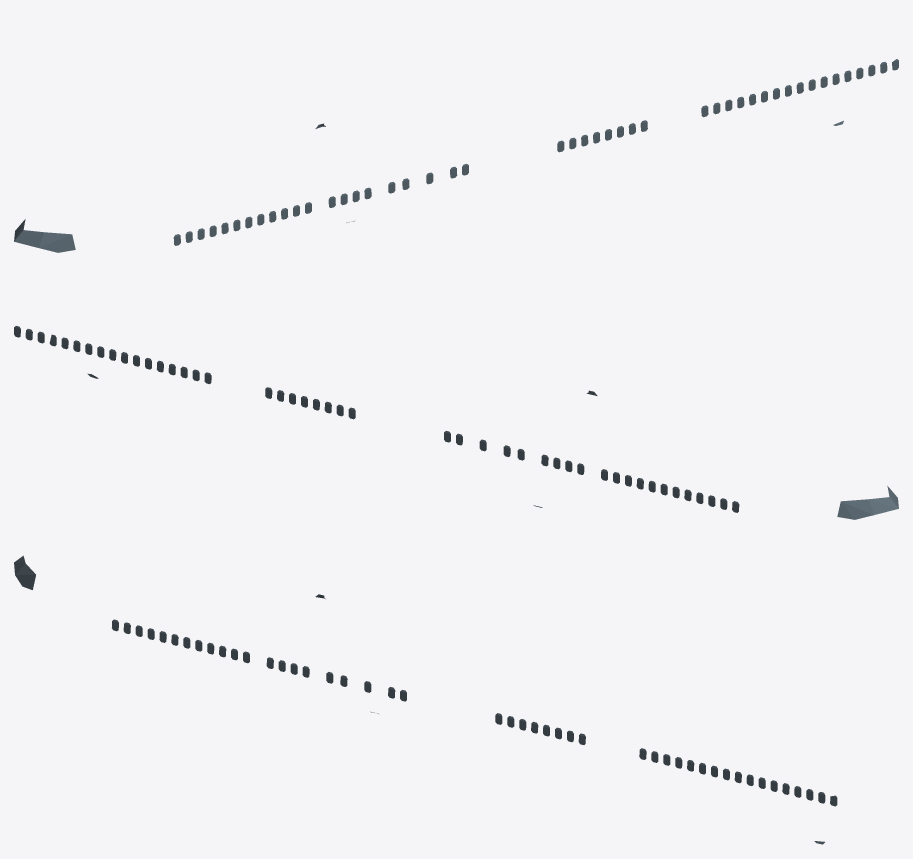
File: b767.glass.glb
3 views of the same model, one above another, from view 1: azimuth 30°, elevation 25°; view 2: azimuth 150°, elevation 25°; view 3: azimuth 330°, elevation 25° (orthographic).
Parts seen in each view (by area): view 1: glass; view 2: glass; view 3: glass.
Boxes of the visible parts, box(x1,y1,x2,y2) form: glass: box(14, 59, 898, 252); glass: box(14, 326, 898, 519); glass: box(14, 555, 837, 844).
Bounding box in the file's own units: 39.56 × 5.22 × 4.98.
